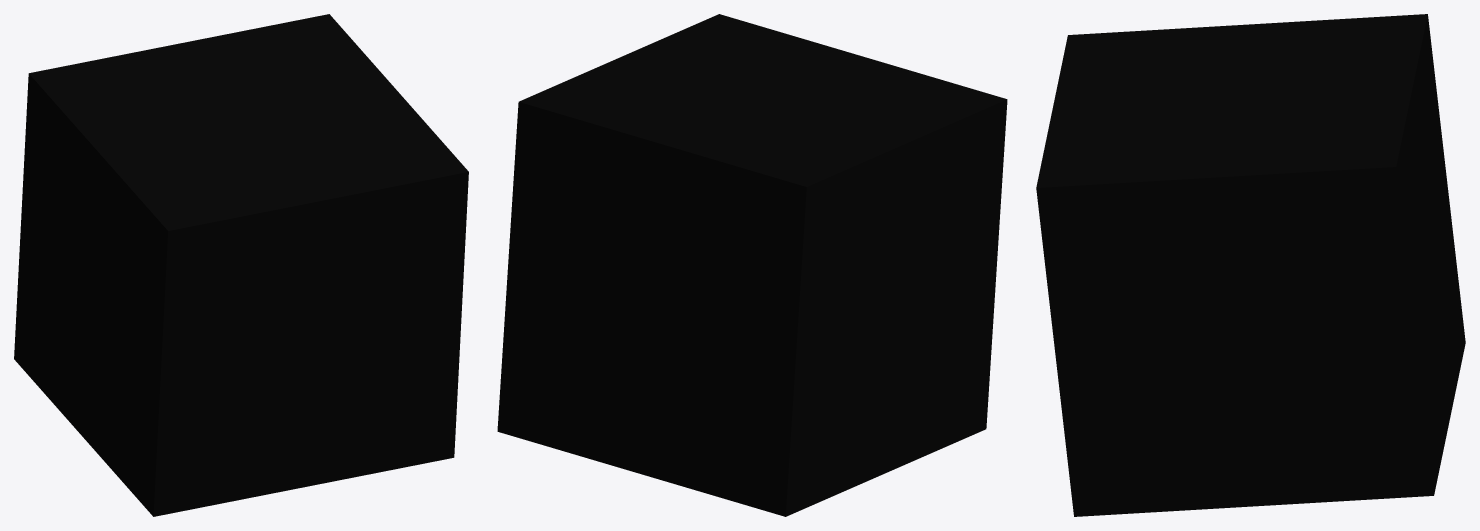
Rendered from chainmail.gltf.
3 views of the same model, side by side, from view 1: azimuth 30°, elevation 25°; view 2: azimuth 150°, elevation 25°; view 3: azimuth 270°, elevation 25° (orthographic). The views are drawn at different scales.
Parts seen in each view (by area): view 1: Hat Layer; view 2: Hat Layer; view 3: Hat Layer.
Part boxes in pixels (box(x1,y1,x2,y2)): Hat Layer: box(14, 14, 468, 516); Hat Layer: box(497, 14, 1007, 516); Hat Layer: box(1036, 14, 1465, 516).
Size of the model in its own units: 0.7507 by 0.7556 by 0.8126.
1 material, 1 textured.
